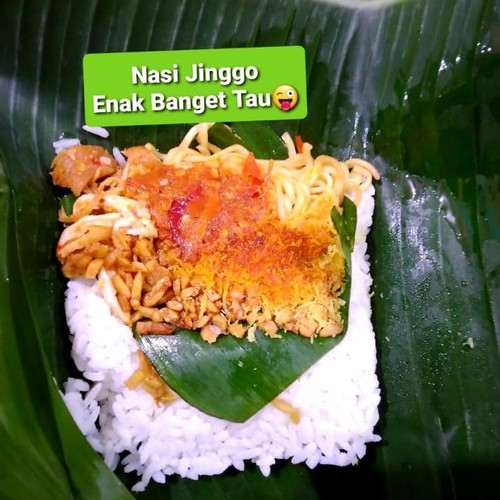nasi jinggo: (64, 132, 400, 469)
